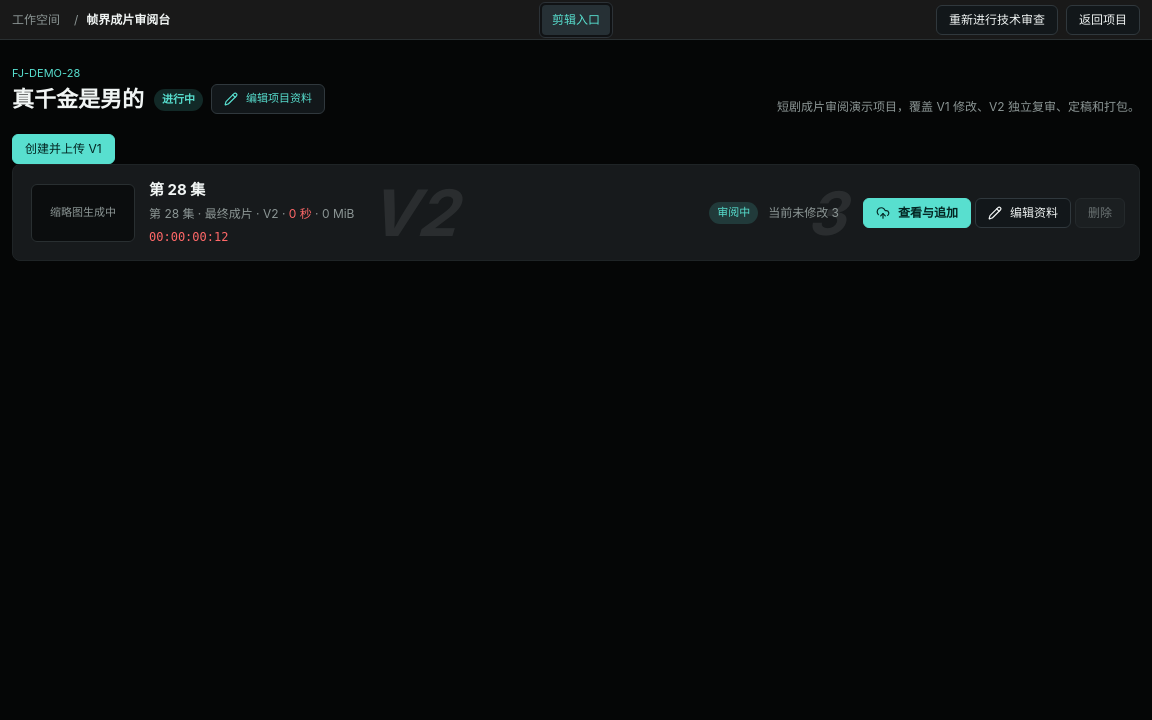
project and review item metadata editing › shows a safe responsible-editor directory error inside the V1 modal without leaking raw details
Check: the heading "真千金是男的 进行中" is shown, box x1=12 y1=84 x2=203 y2=116
Click the button "创建并上传 V1". click: point(63, 149)
box: x1=12 y1=134 x2=114 y2=164
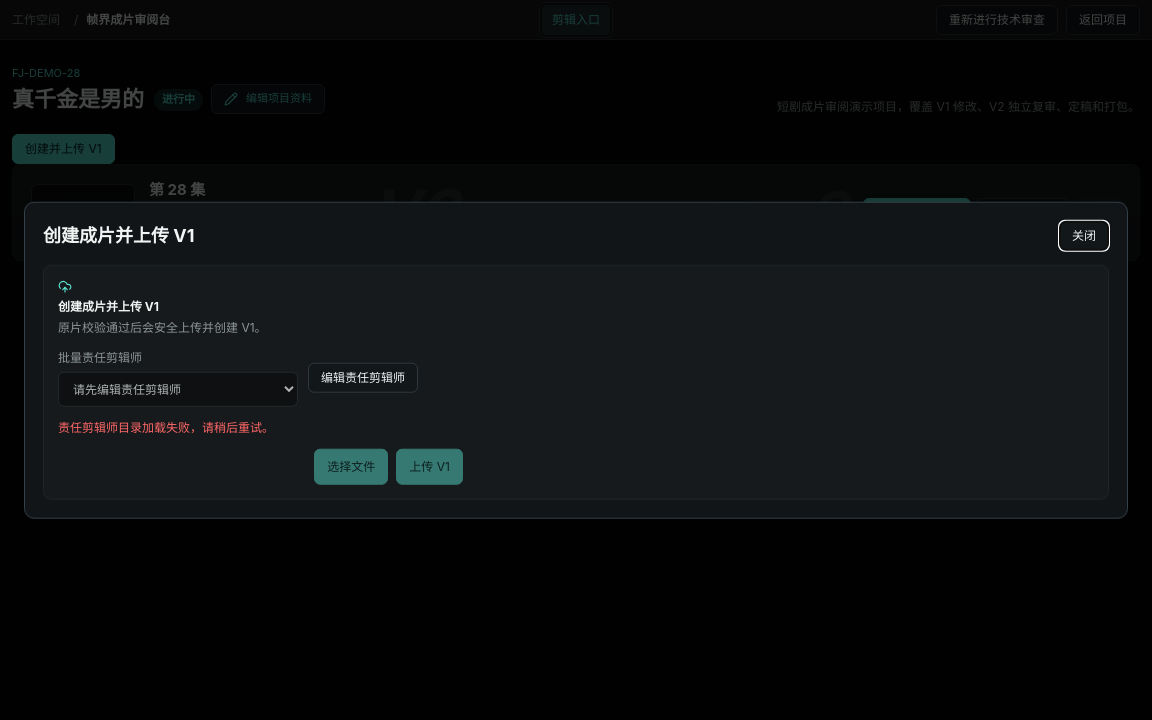
Check: the message reads "责任剪辑师目录加载失败，请稍后重试。", box x1=58 y1=420 x2=274 y2=435
